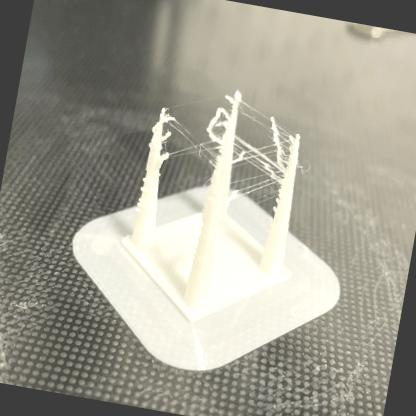fail: (230, 104, 299, 203), (155, 94, 226, 181)
